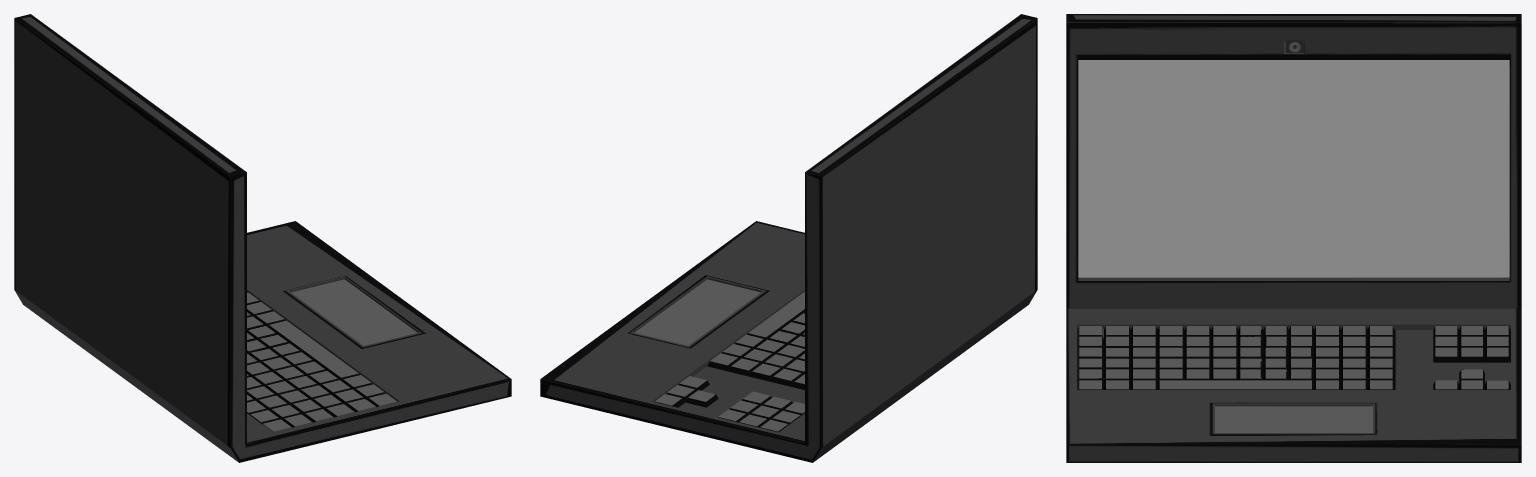
Rendered from laptop.glb.
3 renders of one model, left to right at view 1: azimuth 30°, elevation 25°; view 2: azimuth 150°, elevation 25°; view 3: azimuth 270°, elevation 25°, orthographic. The views are drawn at different scales.
Parts seen in each view (by area): view 1: Laptop; view 2: Laptop; view 3: Laptop.
Part boxes in pixels (x1,y1,x2,y2): Laptop: (14, 14, 511, 462); Laptop: (540, 14, 1037, 462); Laptop: (1066, 14, 1521, 462).
Bounding box in the file's own units: 1.7 × 1.67 × 2.26.
5 materials, 5 textured.
